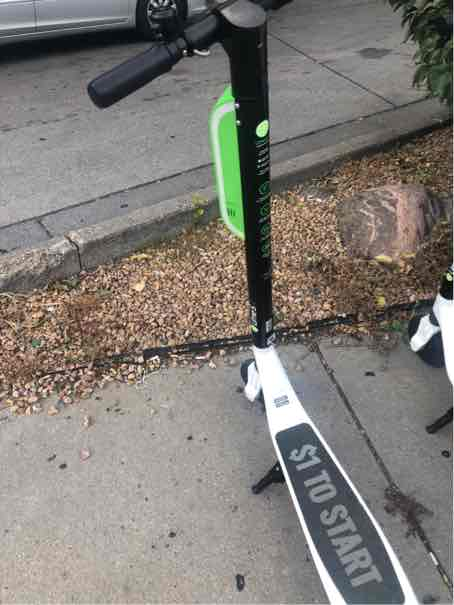scooter: (65, 2, 431, 604)
